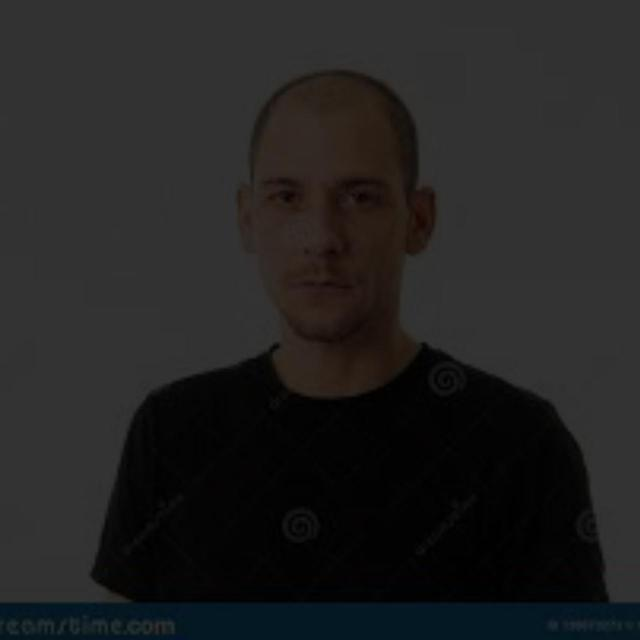natural: (90, 0, 472, 392)
